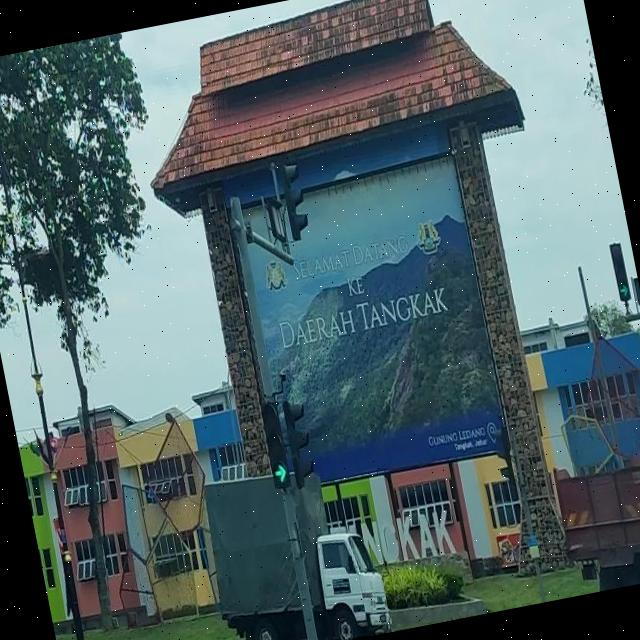green_light: (258, 402, 292, 489), (609, 242, 632, 302)
